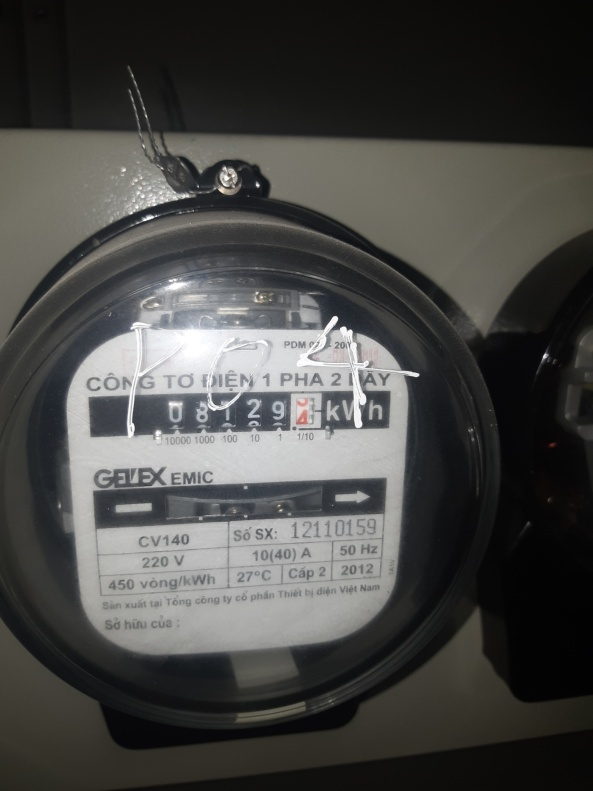counter: (89, 392, 392, 432)
electricity_meter: (2, 210, 504, 722)
